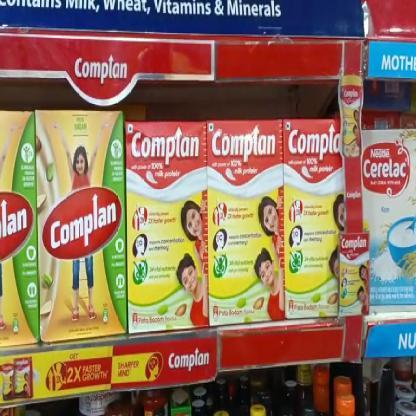Complan Pista Badam: (37, 111, 123, 338), (125, 122, 209, 338), (206, 121, 284, 326), (284, 120, 345, 324)
